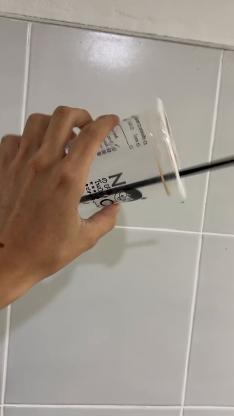Plastic Cup: (80, 97, 186, 206)
